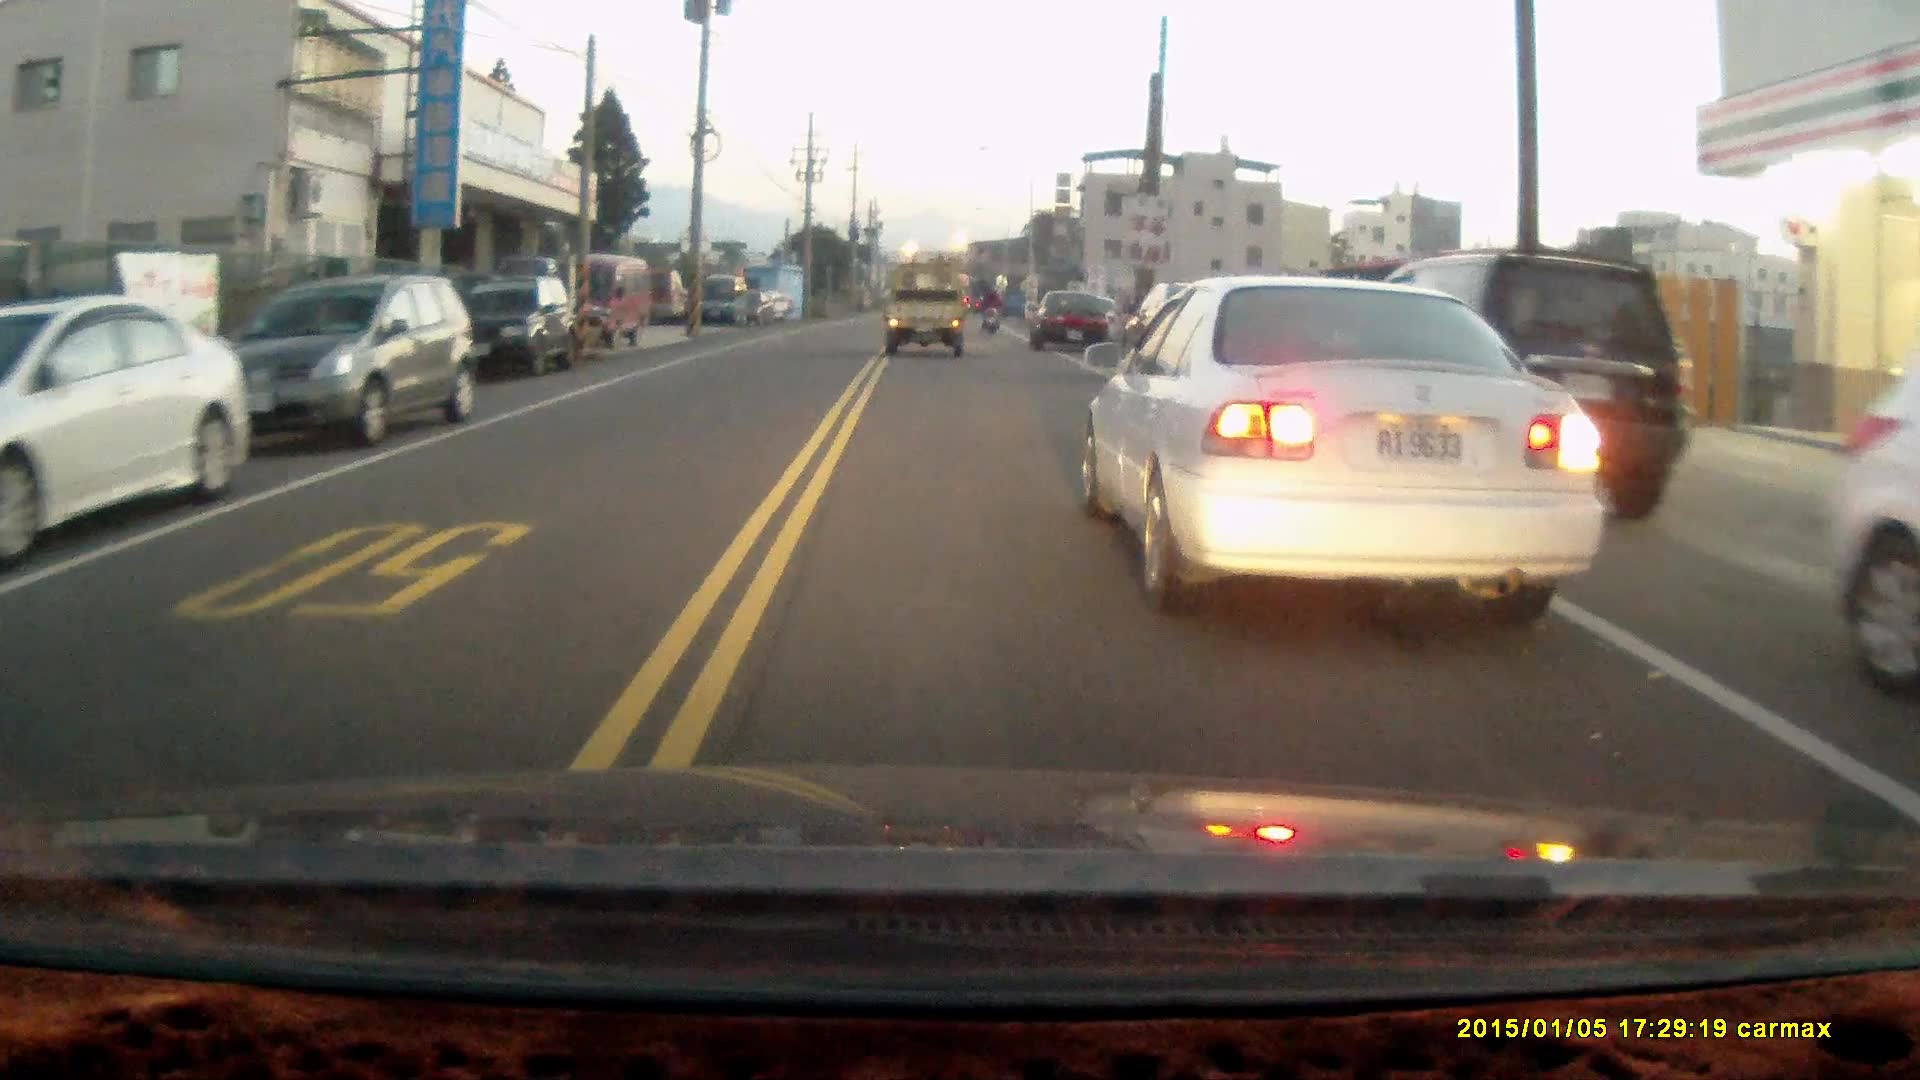rider: (978, 286, 1005, 334)
vehicle: (1085, 269, 1603, 610), (1375, 245, 1691, 515), (4, 297, 252, 540), (219, 273, 479, 447), (1821, 353, 1920, 689), (464, 276, 585, 379), (548, 253, 653, 347), (889, 267, 974, 366), (1032, 288, 1121, 351), (696, 277, 752, 330)
